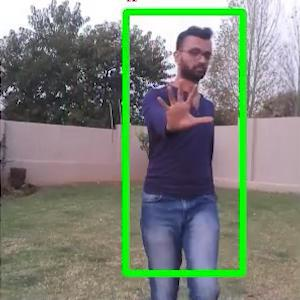follow_hand: (152, 71, 216, 137)
